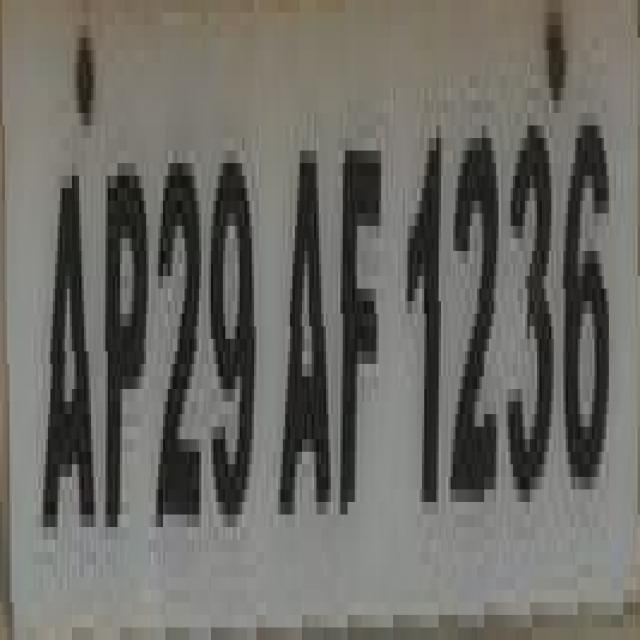license_plate: (21, 12, 640, 602)
